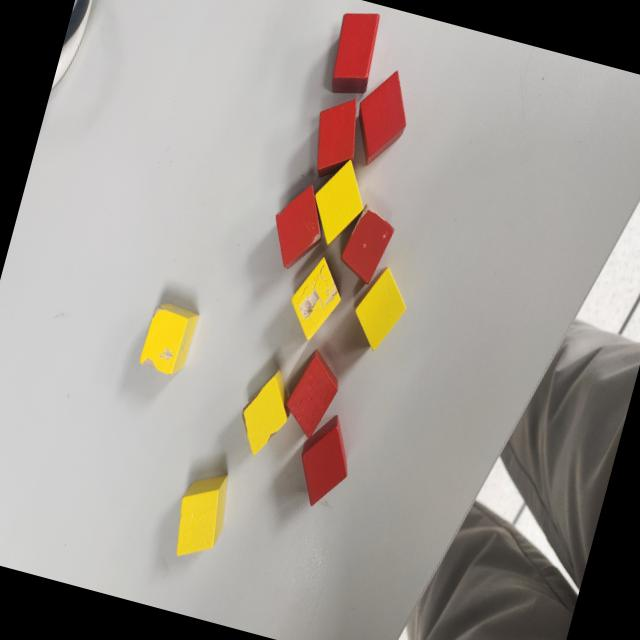broken: (262, 175, 336, 276), (232, 362, 299, 462), (280, 253, 350, 346), (136, 297, 202, 380), (336, 201, 400, 286)
red: (344, 61, 420, 172), (288, 407, 362, 512), (278, 344, 347, 442), (323, 5, 386, 100), (303, 93, 368, 184)
yellow: (166, 464, 236, 566), (303, 154, 374, 252), (344, 260, 416, 356)
